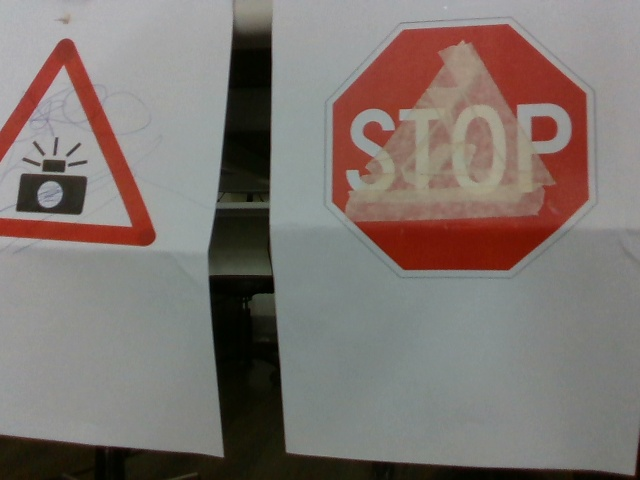camera: (1, 37, 159, 253)
stop: (327, 18, 598, 282)
